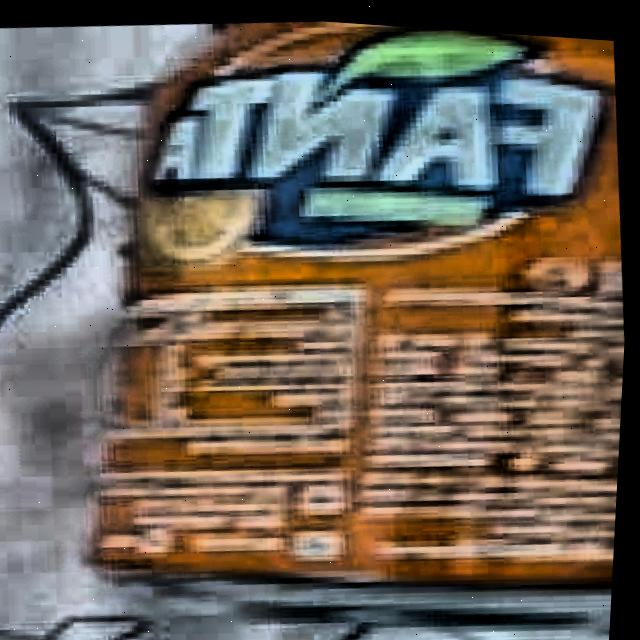metal: (93, 16, 628, 619)
